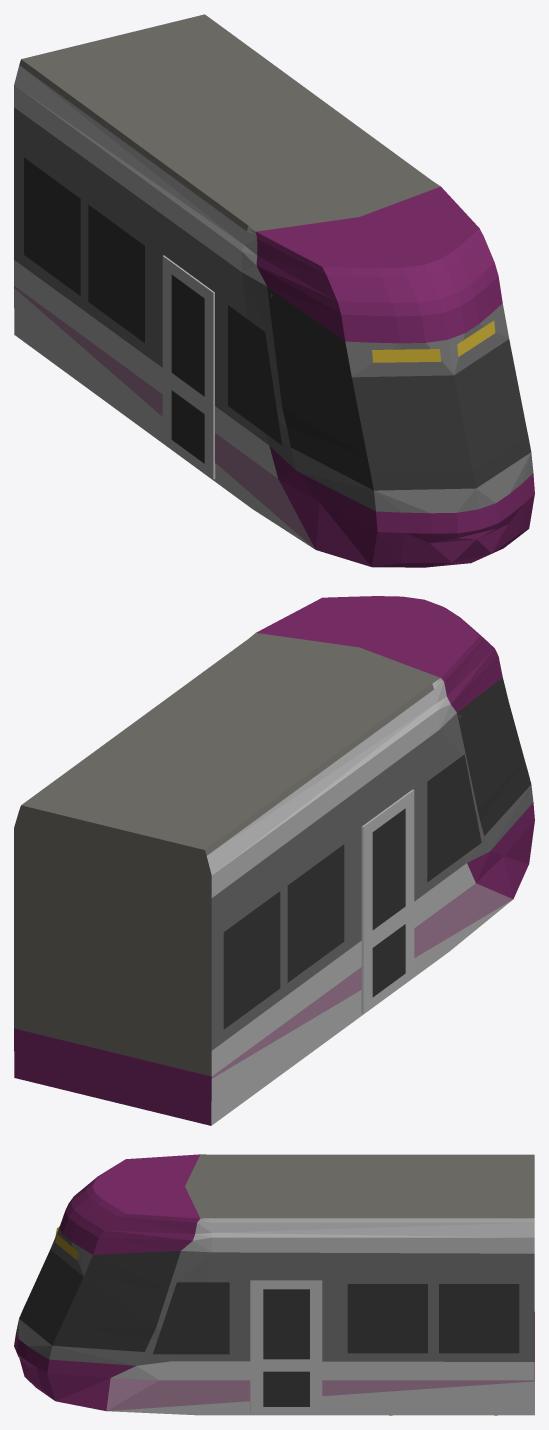
The model's file is bombardier-flexity-2.dae.
The picture shows the model from 3 angles, top to bottom: view 1: azimuth 30°, elevation 25°; view 2: azimuth 150°, elevation 25°; view 3: azimuth 270°, elevation 25°; orthographic projection. The views are drawn at different scales.
Visible parts, largest first — view 1: Cube, Plane_017, Plane_020, Cube_013, Plane_014, Plane_009, Plane_022, Plane_002; view 2: Cube, Plane_017, Plane_020, Cube_013, Plane_014, Plane_009, Plane_022; view 3: Cube, Plane_011, Plane_001, Cube_002, Plane_016, Plane_023, Plane_000.
Part boxes in pixels (bbox=[...]): Cube: bbox=[14, 14, 534, 567]; Plane_017: bbox=[88, 204, 144, 342]; Plane_020: bbox=[24, 157, 80, 295]; Cube_013: bbox=[162, 255, 215, 479]; Plane_014: bbox=[228, 305, 282, 445]; Plane_009: bbox=[171, 275, 204, 396]; Plane_022: bbox=[171, 390, 204, 463]; Plane_002: bbox=[372, 349, 440, 362]; Cube: bbox=[14, 596, 534, 1125]; Plane_017: bbox=[287, 844, 344, 982]; Plane_020: bbox=[223, 891, 280, 1029]; Cube_013: bbox=[361, 789, 414, 1013]; Plane_014: bbox=[427, 754, 481, 882]; Plane_009: bbox=[372, 808, 405, 929]; Plane_022: bbox=[372, 924, 405, 997]; Cube: bbox=[14, 1154, 534, 1415]; Plane_011: bbox=[439, 1284, 519, 1353]; Plane_001: bbox=[347, 1284, 427, 1353]; Cube_002: bbox=[250, 1280, 322, 1413]; Plane_016: bbox=[153, 1282, 229, 1354]; Plane_023: bbox=[263, 1289, 309, 1359]; Plane_000: bbox=[263, 1371, 309, 1406].
Bounding box in the file's own units: 1.5 × 4.74 × 2.01.
